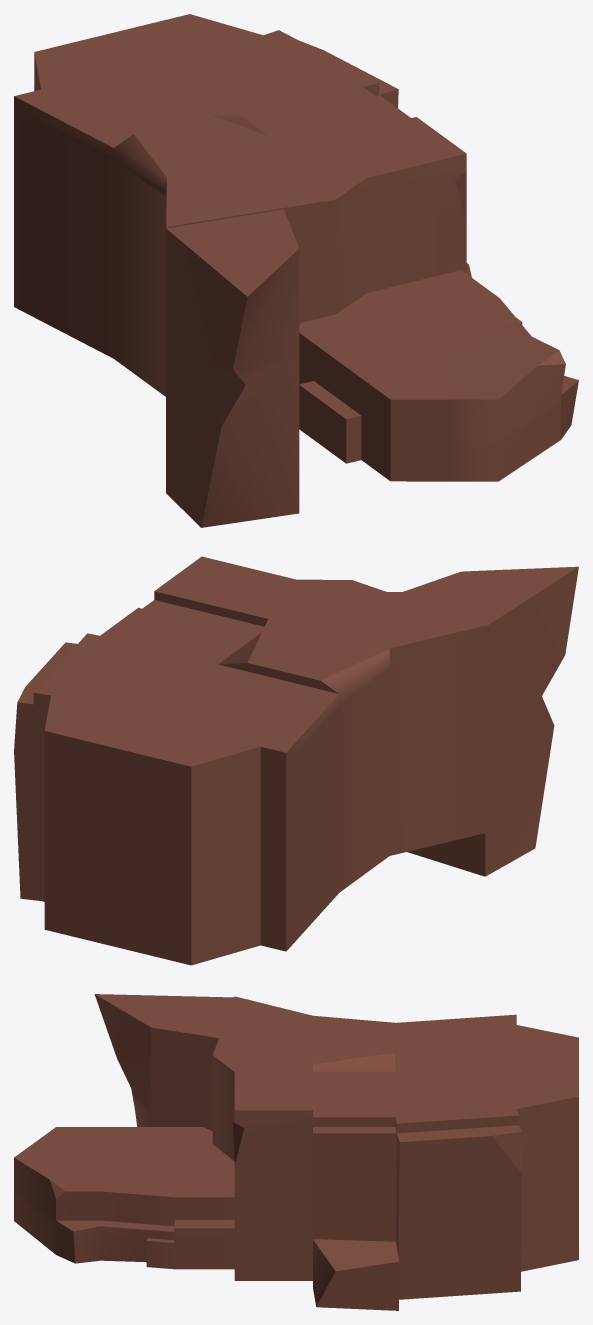
3 views of the same model, one above another, from view 1: azimuth 30°, elevation 25°; view 2: azimuth 150°, elevation 25°; view 3: azimuth 270°, elevation 25° (orthographic). The views are drawn at different scales.
Parts seen in each view (by area): view 1: pCube2, pCube1, pCube3; view 2: pCube2, pCube3; view 3: pCube2, pCube1, pCube3.
Boxes of the visible parts, box(x1,y1,x2,y2) form: pCube2: box(14, 14, 471, 396); pCube1: box(299, 270, 578, 481); pCube3: box(166, 209, 299, 527); pCube2: box(14, 556, 485, 965); pCube3: box(395, 566, 578, 876); pCube2: box(212, 996, 578, 1310); pCube1: box(14, 1127, 234, 1269); pCube3: box(94, 994, 234, 1130).
Size of the model in its own units: 8.64 by 5.83 by 14.45.
